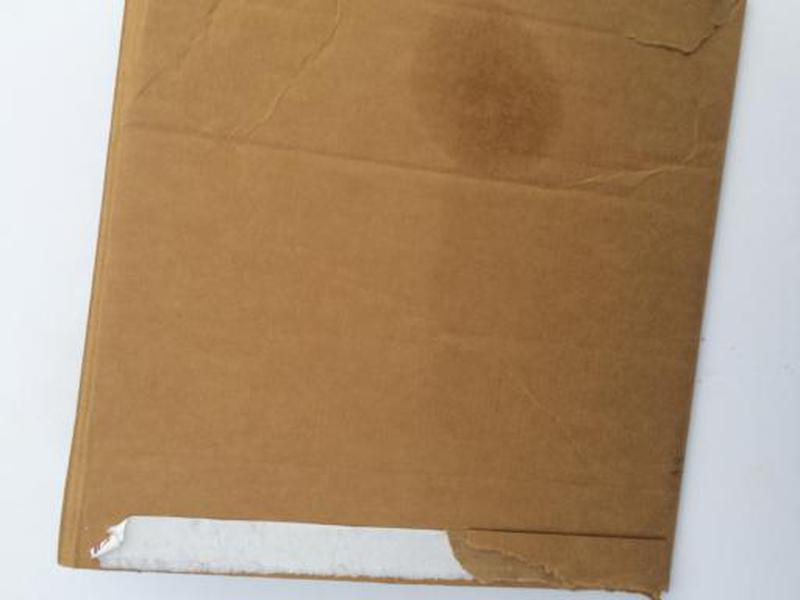cardboard: (53, 1, 751, 598)
